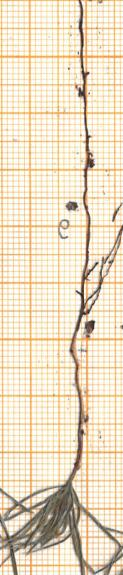flower: (0, 471, 123, 575)
root: (55, 0, 123, 352)
stem: (61, 348, 92, 481)
